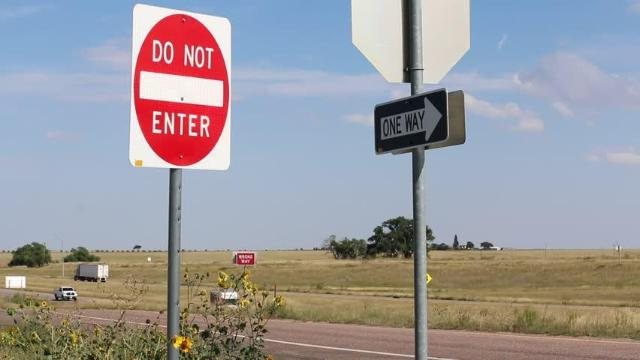B2: (132, 14, 230, 166)
